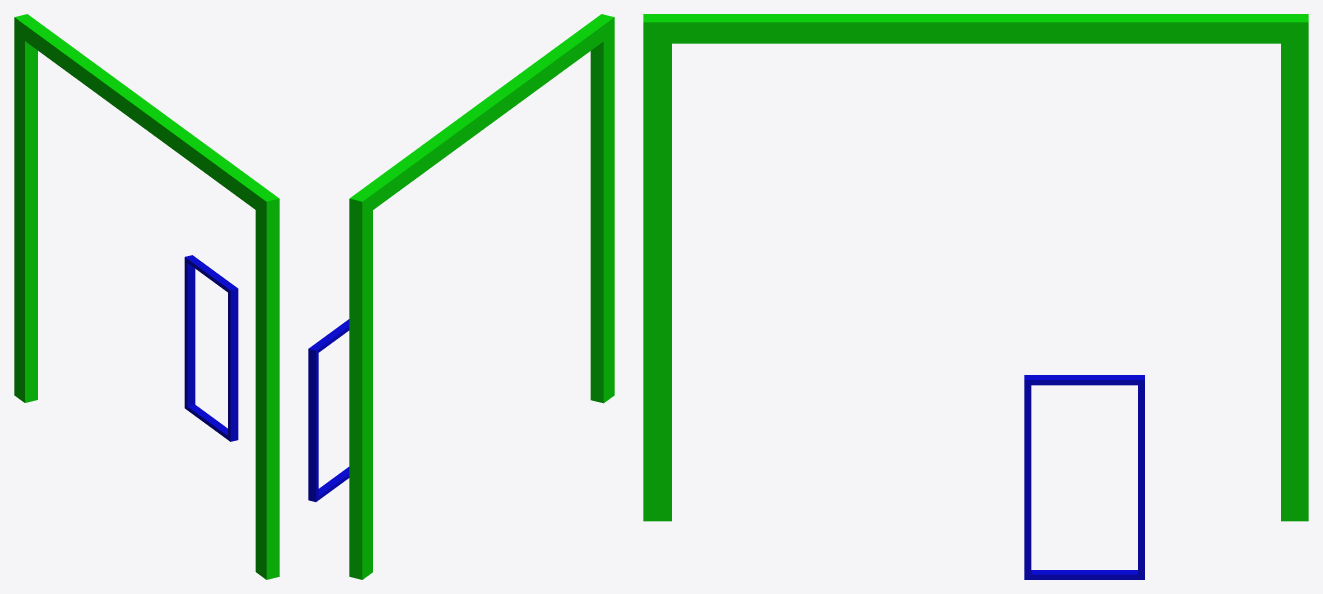
The model's file is VCY_Stand.fbx.
The picture shows the model from 3 angles, left to right: view 1: azimuth 30°, elevation 25°; view 2: azimuth 150°, elevation 25°; view 3: azimuth 270°, elevation 25°; orthographic projection. The views are drawn at different scales.
Parts seen in each view (by area): view 1: VCY_Door_Frame_Stand; view 2: VCY_Door_Frame_Stand; view 3: VCY_Door_Frame_Stand.
Part boxes in pixels (x1=…): VCY_Door_Frame_Stand: x1=14, y1=14, x2=279, y2=579; VCY_Door_Frame_Stand: x1=308, y1=14, x2=614, y2=579; VCY_Door_Frame_Stand: x1=643, y1=14, x2=1308, y2=579.
Bounding box in the file's own units: 195 × 608 × 735.
